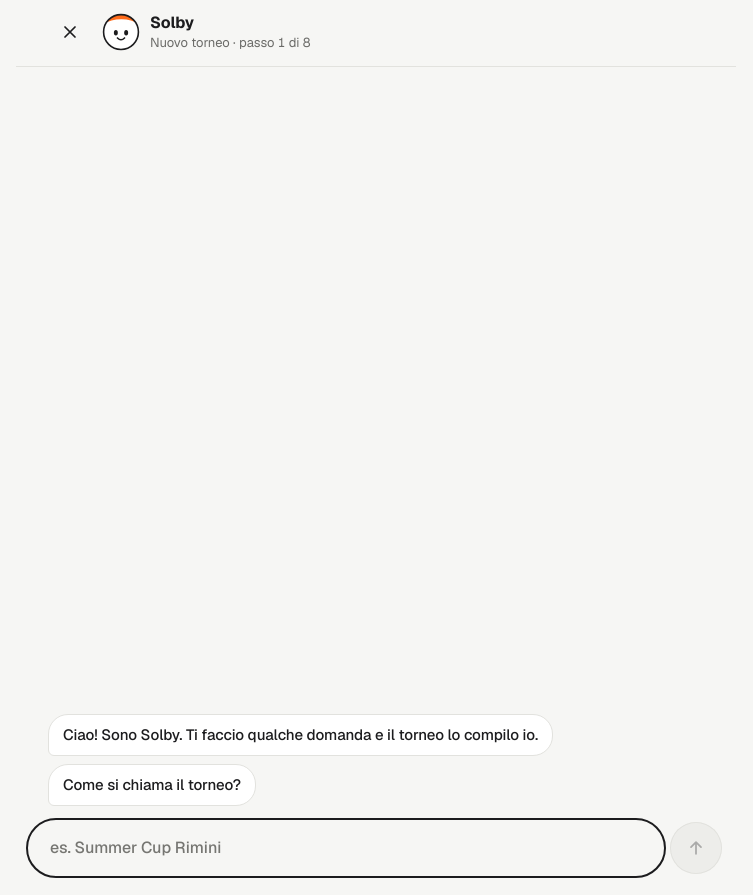
it: CreaChat — la testata e la capsula (design 14) › un nome che non è fra i compagni è un compagno nuovo
Type keys "Rimini Open{Enter}"
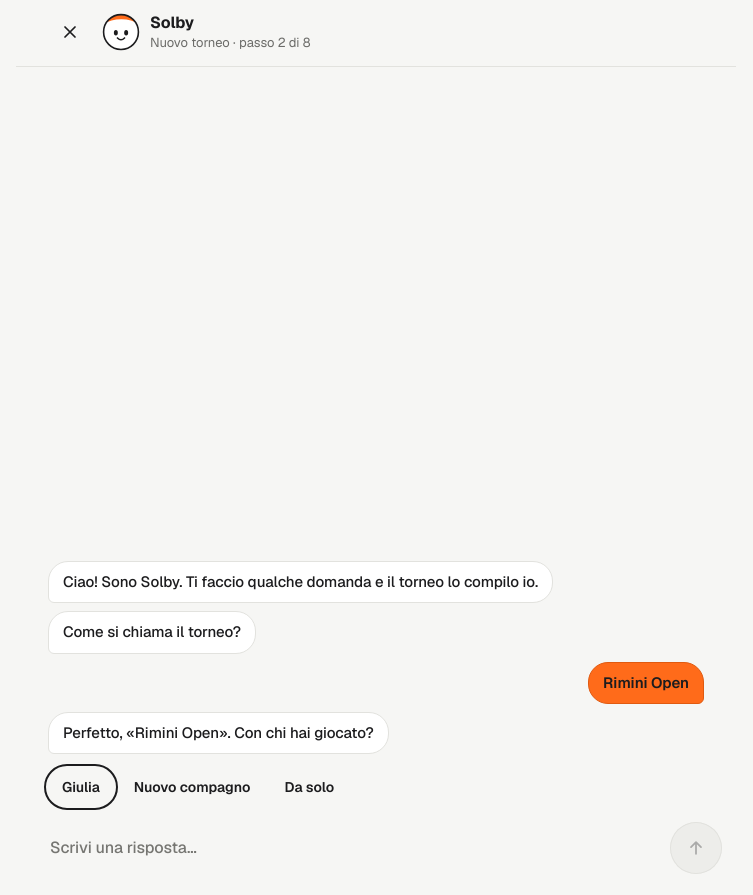
Type "Luca" into the field named "Con chi hai giocato" at (346, 848), box [48,835,644,861]
Then press Enter
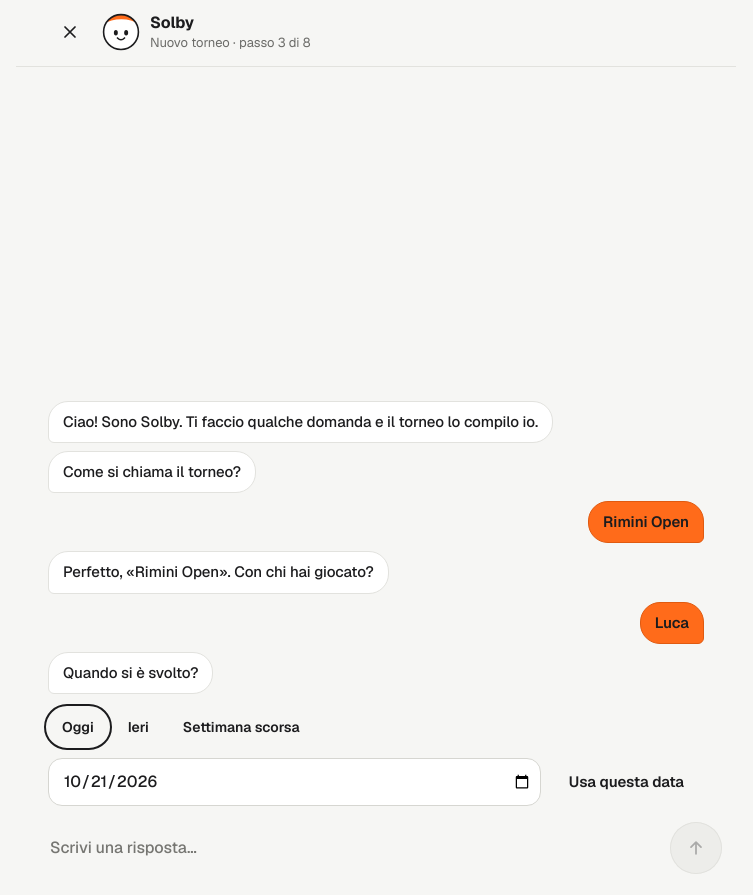
Expected: the button "Oggi" is shown, [48,708,108,746]
Expected: the text "Luca" is shown, [640,602,704,644]
